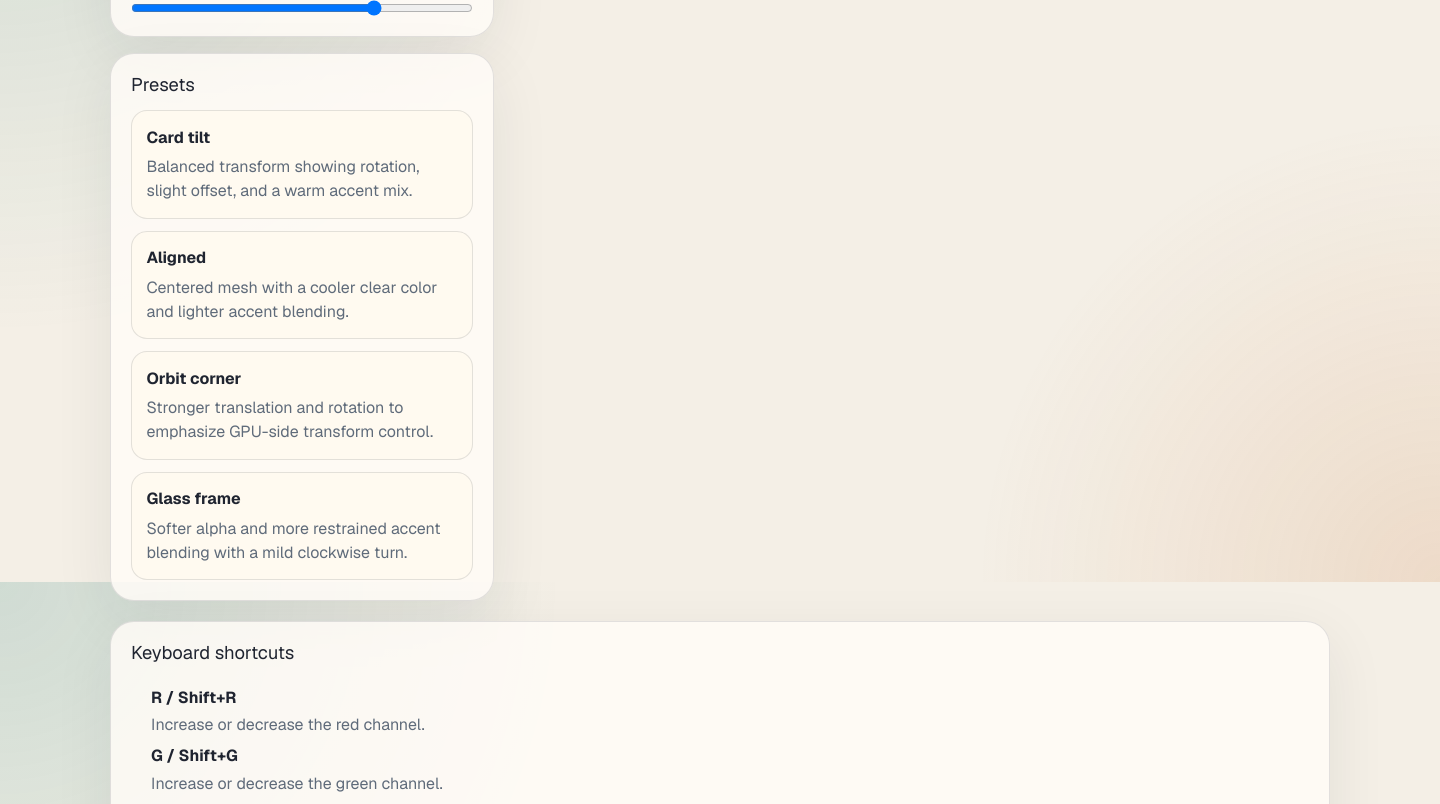
Test: WebGpuUniformTransformPageClient › applies presets and updates the route summary
The width and height of the screenshot is (1440, 804).
(page scrolled)
Click the button named "Orbit corner Stronger translation and rotation to emphasize GPU-side transform control.": x=302, y=405 [131, 351, 473, 460]
(page scrolled)
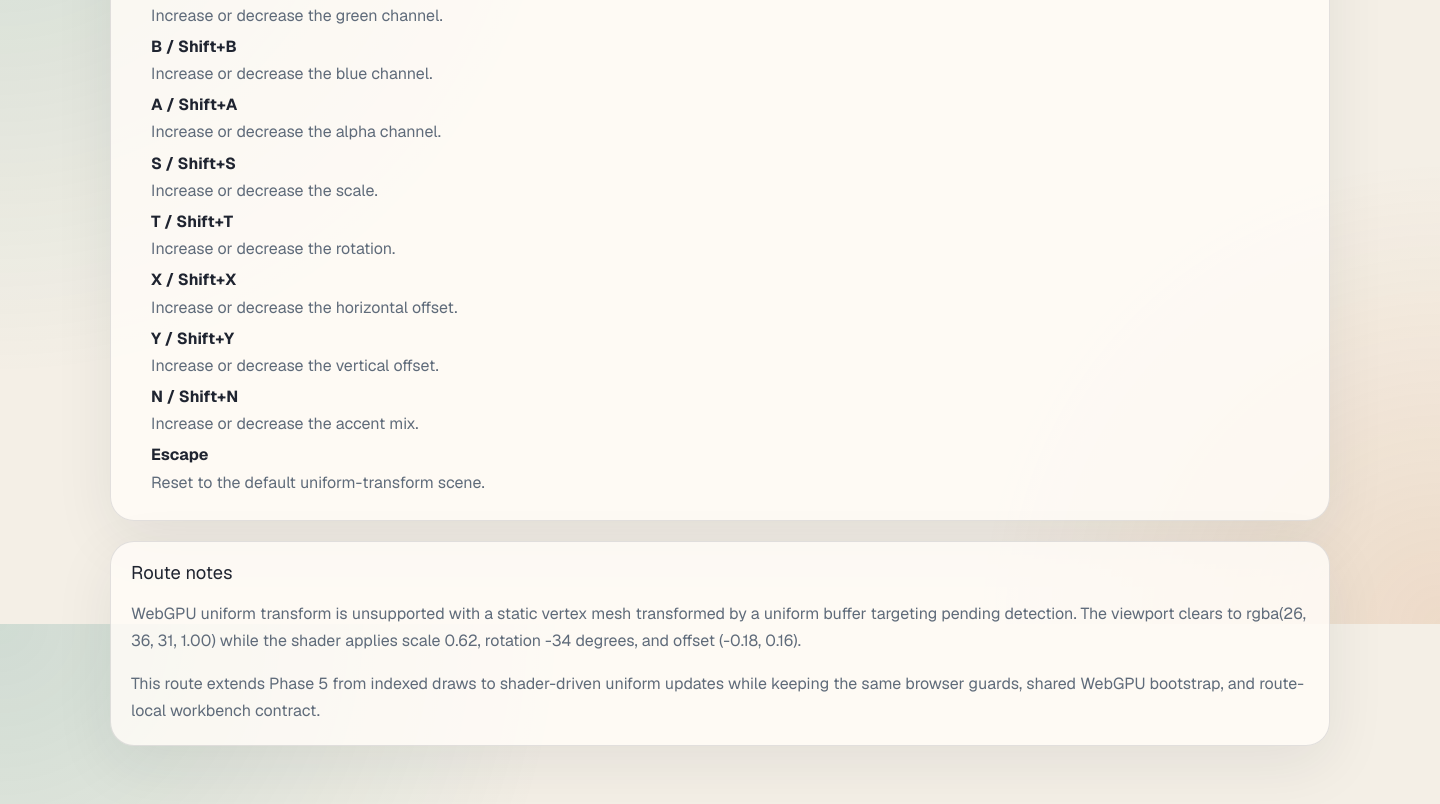
expect the text "offset (-0.18, 0.16)" is shown: met, box [131, 603, 1306, 651]
